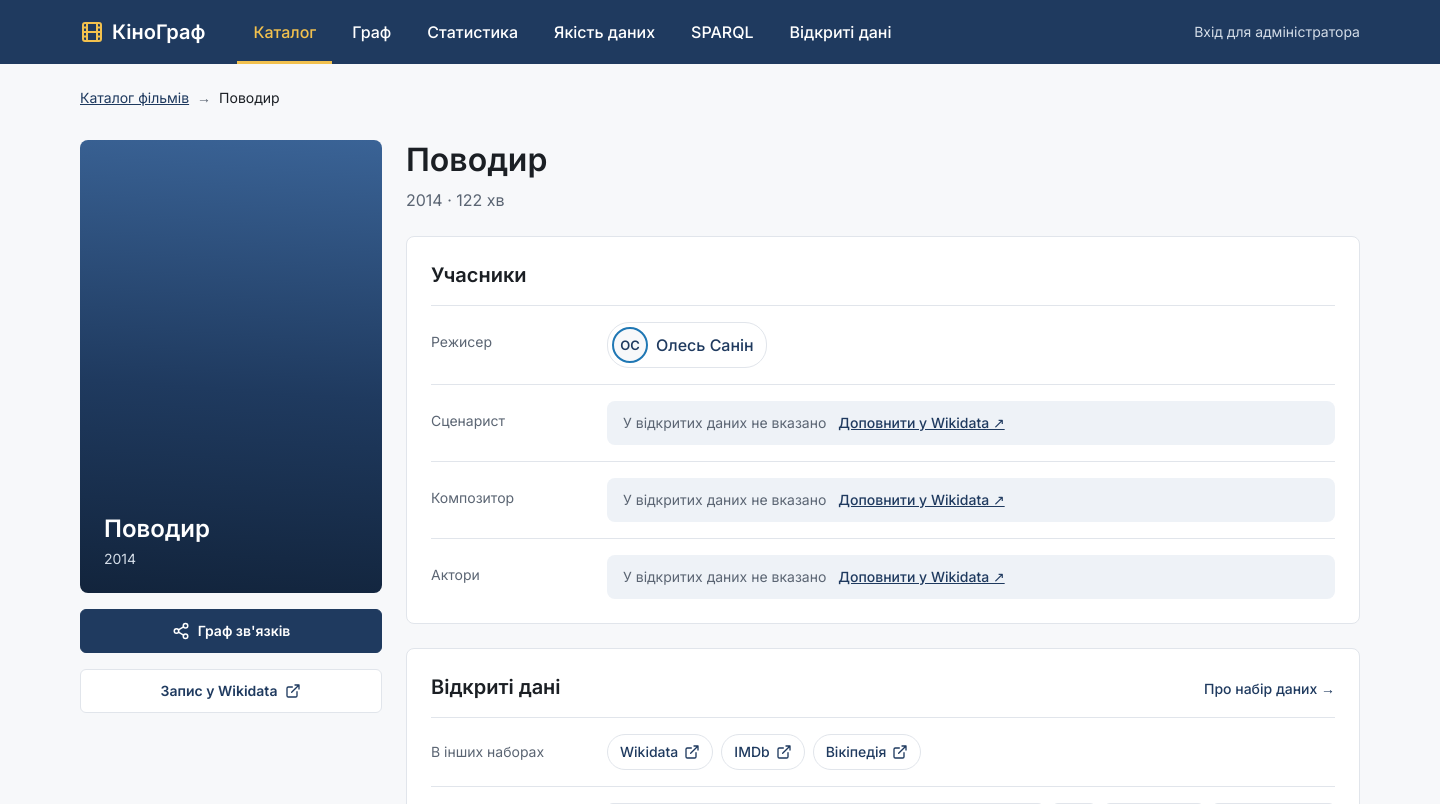
it: розмітка schema.org › прибирає документ після переходу на іншу сторінку
This screenshot has width=1440, height=804.
Click the link "Відкриті дані". click: {"x": 840, "y": 32}
box: top-left (790, 22), bottom-right (891, 42)
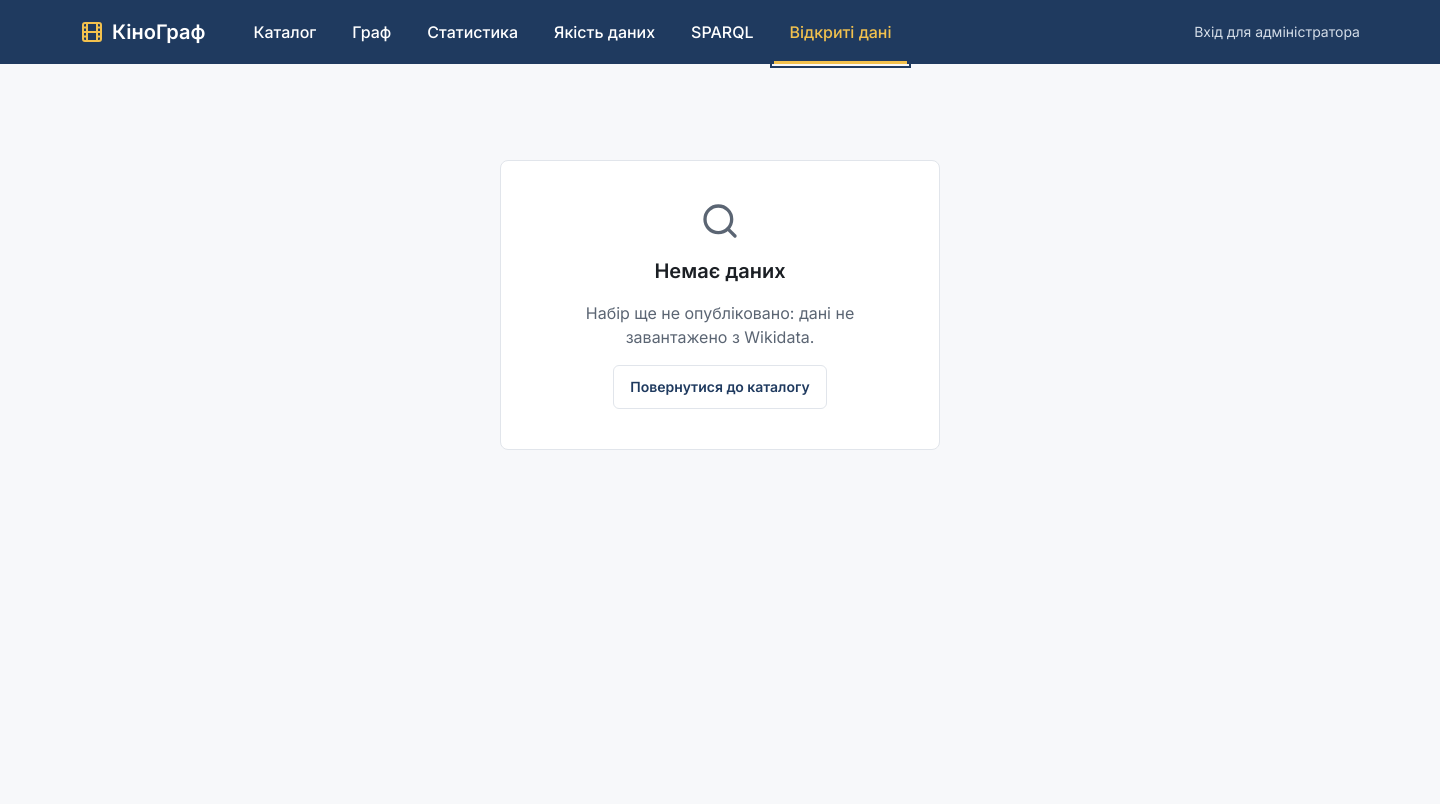
Expected: the text "Набір ще не опубліковано: дані не завантажено з Wikidata." is shown, top-left (586, 303), bottom-right (854, 347)
